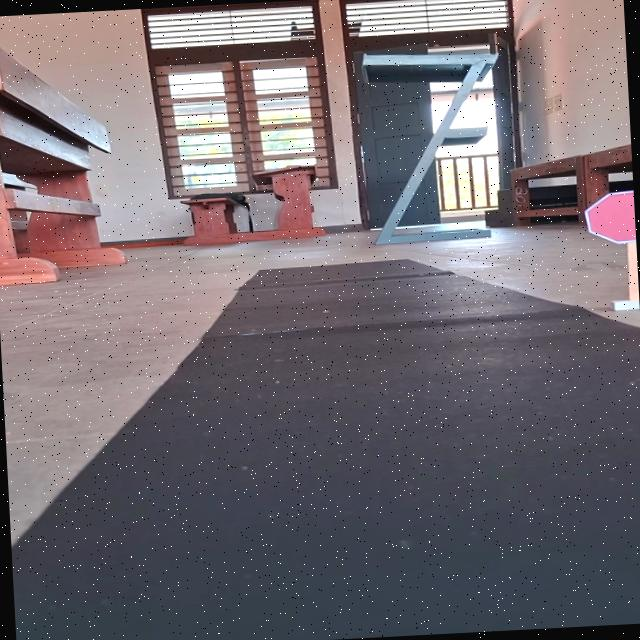Stop: (580, 188, 636, 246)
